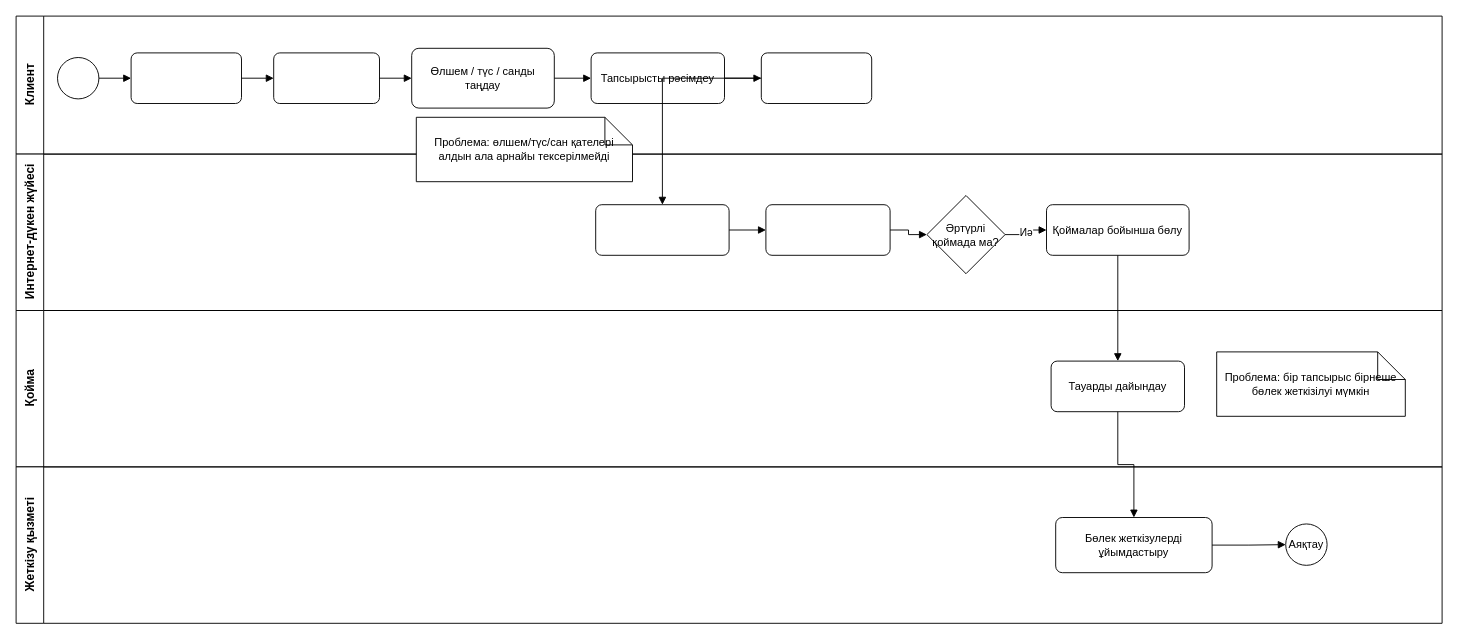
Image size: 1458x639. Some labels were removed from this diagram. Here are the shapes that lost their labels. From the top down, the centre of each, then its label:
pixel 78 78: Бастау
pixel 186 78: Тауарды таңдау
pixel 326 78: Себетке қосу
pixel 816 78: Төлем жасау
pixel 662 229: Тапсырысты қабылдау
pixel 827 229: Қоймаларды анықтау
